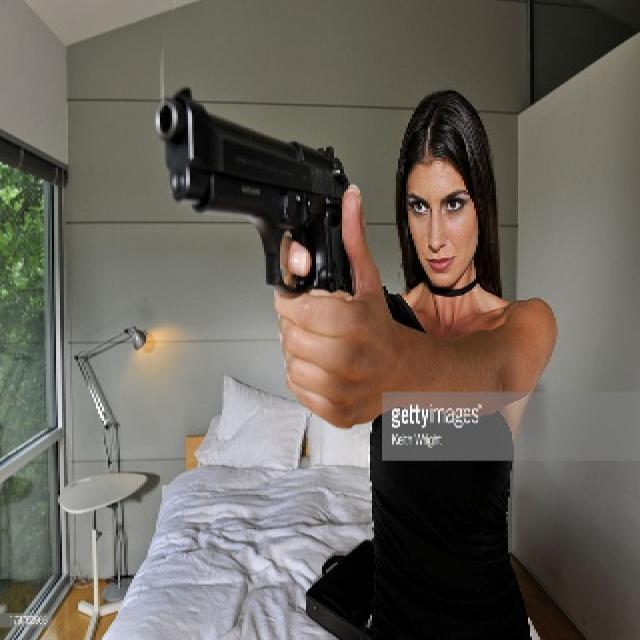handgun: (151, 81, 357, 297)
